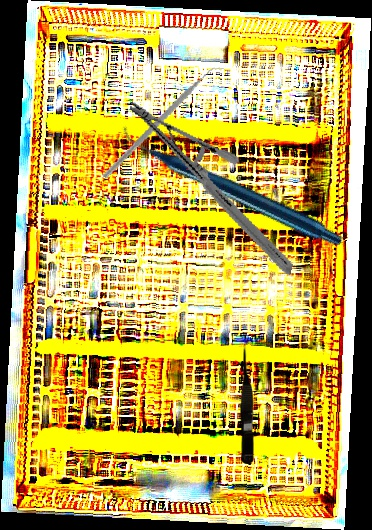Chopper: (101, 47, 228, 199)
Handpiece: (120, 60, 345, 310)
Micro Scissor: (238, 342, 257, 465)
Needle Holder: (96, 100, 326, 275)
